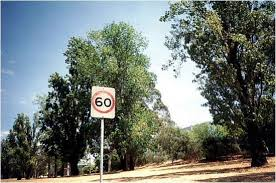Speed_limit_60km: (91, 89, 117, 114)
